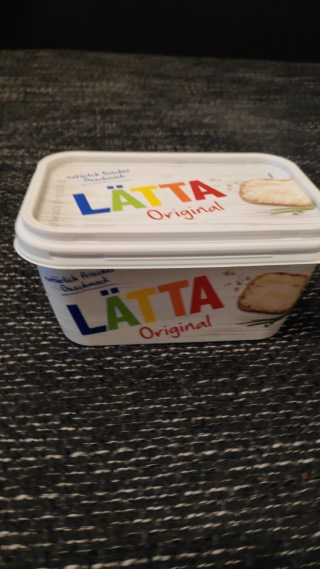laetta: (13, 148, 320, 348)
